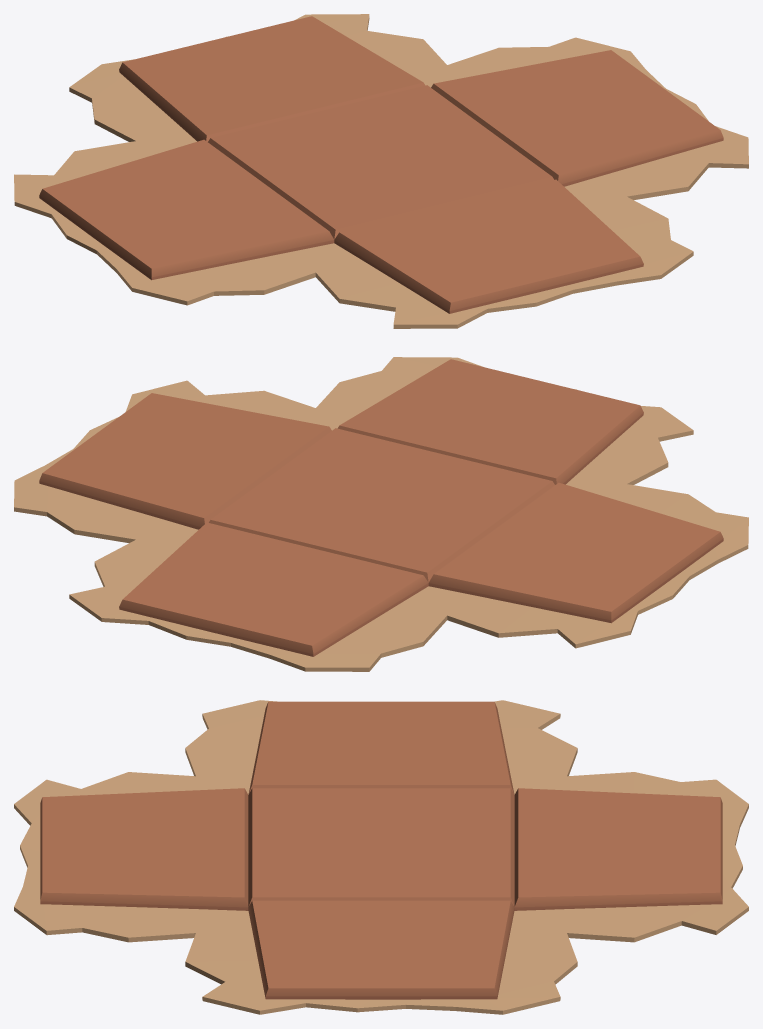
File: Present_UnwrappedBase.gltf
3 views of the same model, one above another, from view 1: azimuth 30°, elevation 25°; view 2: azimuth 150°, elevation 25°; view 3: azimuth 270°, elevation 25° (orthographic). The views are drawn at different scales.
Visible parts, largest first — view 1: Present_UnwrappedBase; view 2: Present_UnwrappedBase; view 3: Present_UnwrappedBase.
Boxes of the visible parts, x1,y1,x2,y2 form: Present_UnwrappedBase: (14,14,748,328); Present_UnwrappedBase: (14,357,748,671); Present_UnwrappedBase: (14,700,748,1014).
Size of the model in its own units: 4.93 by 0.1239 by 4.93.
Materials: 1 (1 with a texture image).
